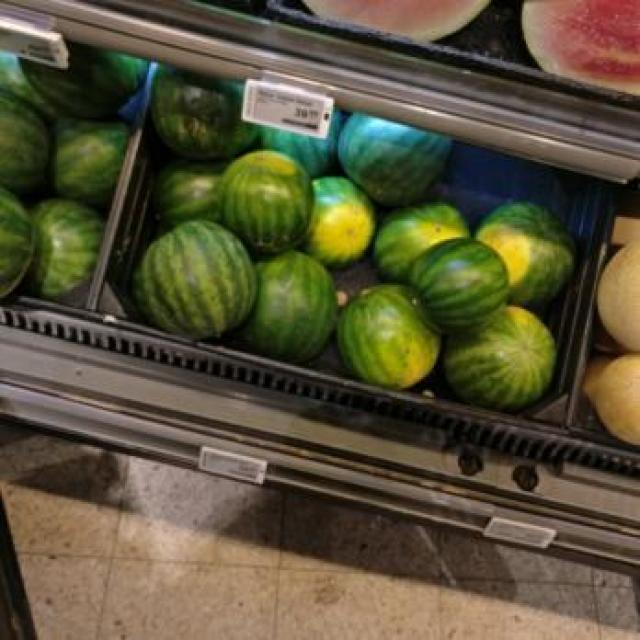Watermelon: (136, 217, 258, 342), (445, 305, 559, 412), (237, 250, 342, 362), (477, 201, 580, 304), (344, 109, 454, 203), (342, 283, 440, 386), (414, 233, 512, 332), (158, 63, 259, 158), (20, 44, 150, 116), (221, 151, 313, 250), (26, 199, 109, 300), (300, 178, 381, 264)
